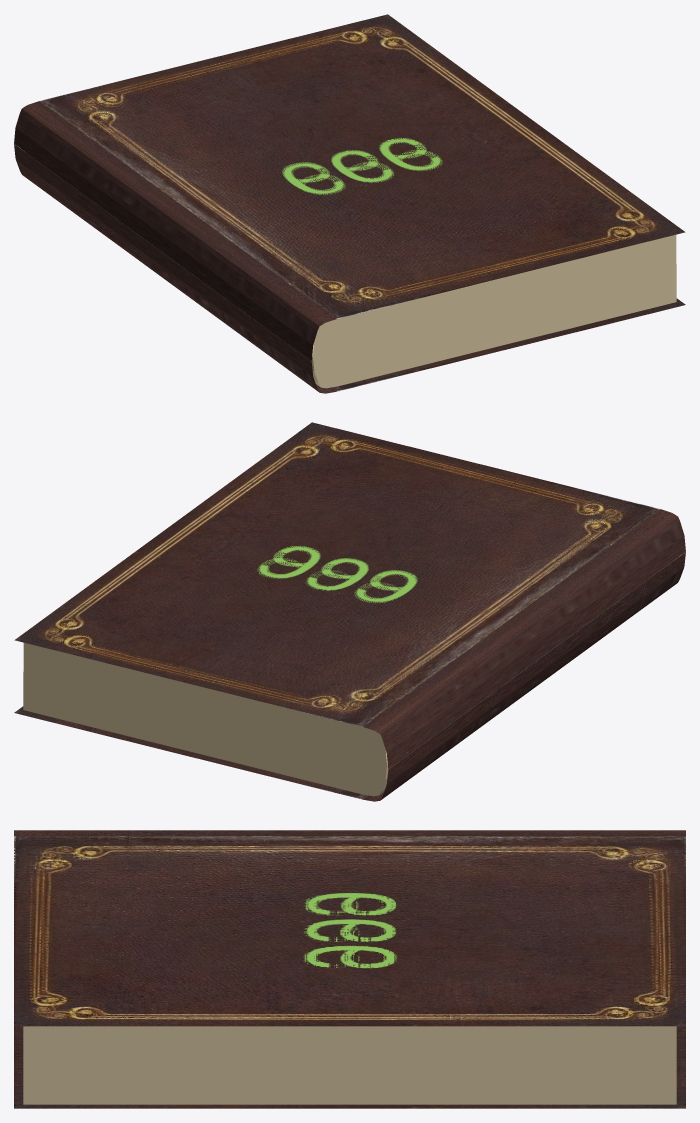
The model's file is Libro666.fbx.
The picture shows the model from 3 angles, top to bottom: view 1: azimuth 30°, elevation 25°; view 2: azimuth 150°, elevation 25°; view 3: azimuth 270°, elevation 25°; orthographic projection. The views are drawn at different scales.
Visible parts, largest first — view 1: Cub.002, Cub; view 2: Cub.002, Cub; view 3: Cub.002, Cub.
Part boxes in pixels (<box>): Cub.002: <box>14,14,685,393</box>; Cub: <box>25,152,676,388</box>; Cub.002: <box>14,422,685,801</box>; Cub: <box>23,560,674,796</box>; Cub.002: <box>14,830,685,1108</box>; Cub: <box>23,1026,676,1104</box>.
Size of the model in its own units: 149 by 28.39 by 206.
